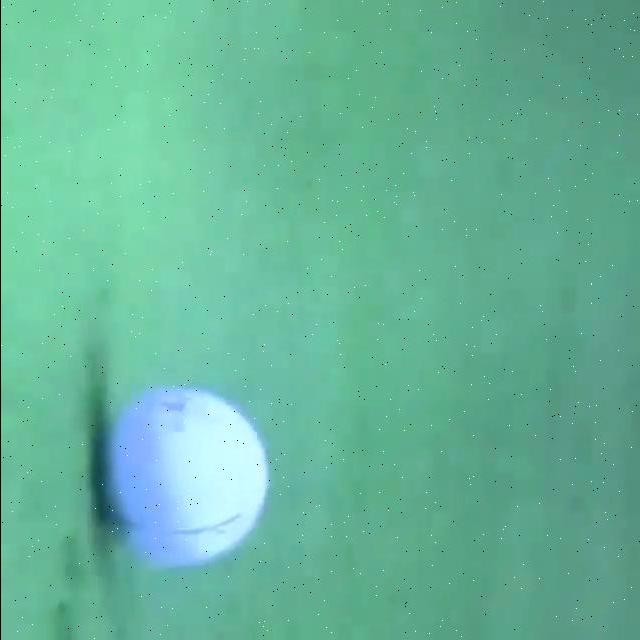golf ball: (100, 384, 272, 574)
